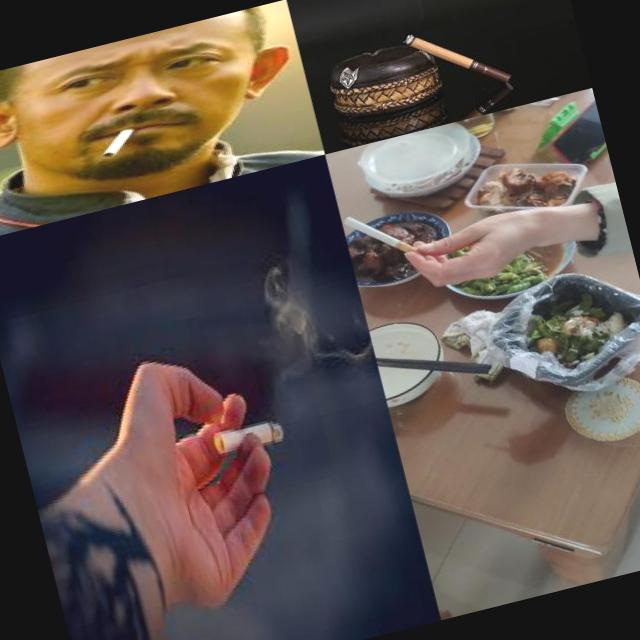smoke: (398, 10, 513, 106), (342, 200, 427, 272), (212, 417, 286, 458), (82, 122, 137, 162)
